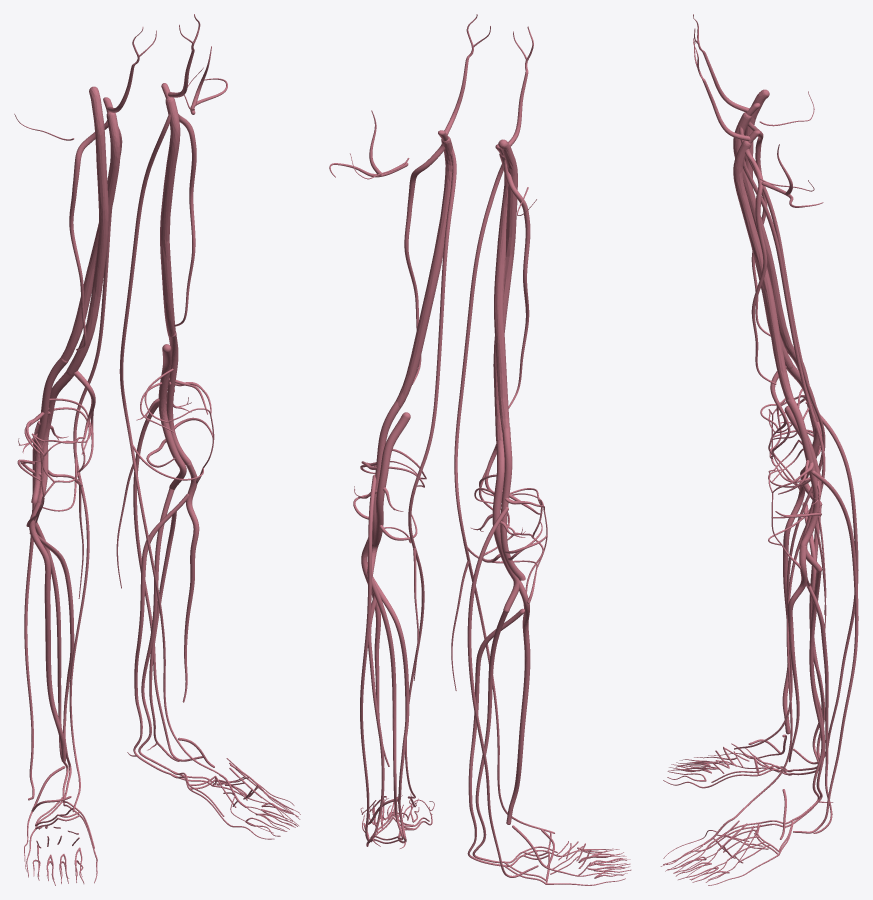
Rendered from cardiovascular-03.glb.
3 views of the same model, side by side, from view 1: azimuth 30°, elevation 25°; view 2: azimuth 150°, elevation 25°; view 3: azimuth 270°, elevation 25° (orthographic). The views are drawn at different scales.
Parts seen in each view (by area): view 1: FJ2143, FJ2103, FJ2102, FJ2145, FJ2144, FJ2130, FJ2118, FJ2121, FJ2087, FJ2086, FJ2183, FJ2135 (+9 smaller); view 2: FJ2145, FJ2103, FJ2102, FJ2144, FJ2143, FJ2176, FJ2121, FJ2130, FJ2086, FJ2087, FJ2170, FJ2173 (+9 smaller); view 3: FJ2102, FJ2103, FJ2145, FJ2144, FJ2121, FJ2176, FJ2099, FJ2183, FJ2117, FJ2087, FJ2187, FJ2130 (+15 smaller).
Part boxes in pixels (x1,y1,x2,y2): FJ2143: (66, 86, 108, 375); FJ2103: (116, 113, 220, 774); FJ2102: (160, 97, 180, 338); FJ2145: (69, 127, 122, 812); FJ2144: (60, 112, 120, 365); FJ2130: (29, 502, 66, 762); FJ2118: (133, 493, 189, 774); FJ2121: (133, 389, 203, 761); FJ2087: (138, 488, 174, 770); FJ2086: (158, 344, 186, 489); FJ2183: (182, 463, 199, 702); FJ2135: (69, 97, 112, 350); FJ2145: (451, 164, 554, 833); FJ2103: (405, 148, 456, 798); FJ2102: (396, 136, 452, 407); FJ2144: (494, 153, 509, 431); FJ2143: (493, 139, 517, 441); FJ2176: (467, 507, 538, 877); FJ2121: (360, 474, 376, 843); FJ2130: (506, 580, 530, 824); FJ2086: (366, 412, 410, 578); FJ2087: (372, 577, 403, 840); FJ2170: (492, 440, 519, 612); FJ2173: (467, 608, 524, 866); FJ2102: (733, 140, 793, 399); FJ2103: (734, 161, 826, 818); FJ2145: (734, 126, 826, 749); FJ2144: (733, 112, 794, 354); FJ2121: (793, 470, 858, 833); FJ2176: (793, 414, 858, 764); FJ2099: (745, 130, 776, 384); FJ2183: (787, 545, 807, 762); FJ2117: (786, 399, 819, 547); FJ2087: (792, 571, 824, 820); FJ2187: (807, 586, 832, 833); FJ2130: (782, 486, 805, 734).
Size of the model in its own units: 0.3404 by 1.01 by 0.2272.
